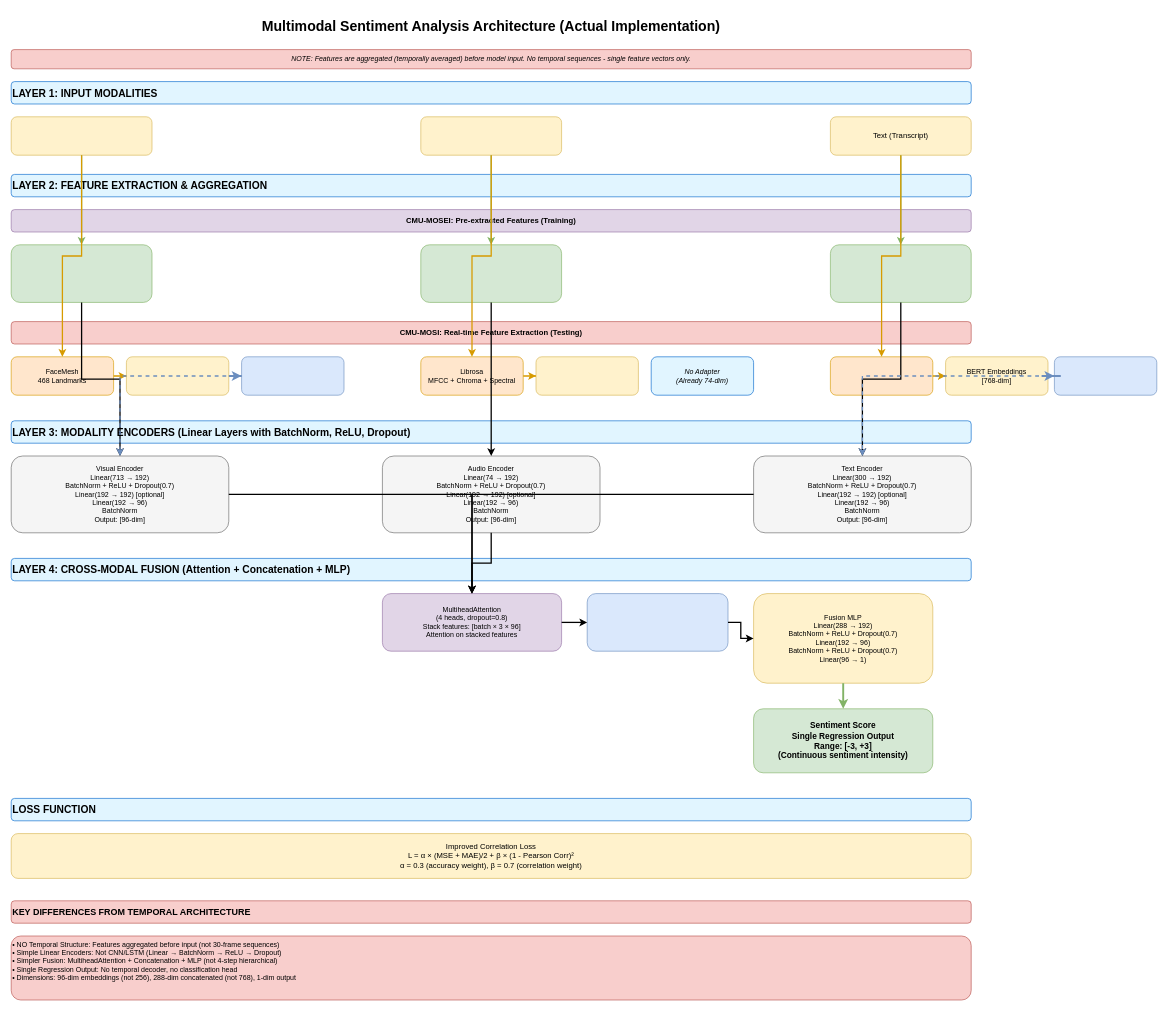
This 1168x1011 diagram has some shape labels left out. Here are the shapes that lost their labels. From the top down, the box of each, then its label:
(11, 116, 152, 155): Video (RGB Frames)
(420, 116, 562, 155): Audio (Waveform)
(11, 244, 152, 302): OpenFace2 Visual Features [713-dim] (Pre-extracted)
(420, 244, 562, 302): COVAREP Audio Features [74-dim] (Pre-extracted)
(830, 244, 971, 302): GloVe Text Features [300-dim] (Pre-extracted)
(126, 356, 229, 395): Emotion Features [65-dim]
(241, 356, 344, 395): Feature Adapter [65 → 713]
(535, 356, 638, 395): Audio Features [74-dim]
(830, 356, 933, 395): BERT Tokenizer + BERT Model
(1054, 356, 1157, 395): Feature Adapter [768 → 300]
(587, 593, 728, 651): Concatenation [96, 96, 96] → [288]
